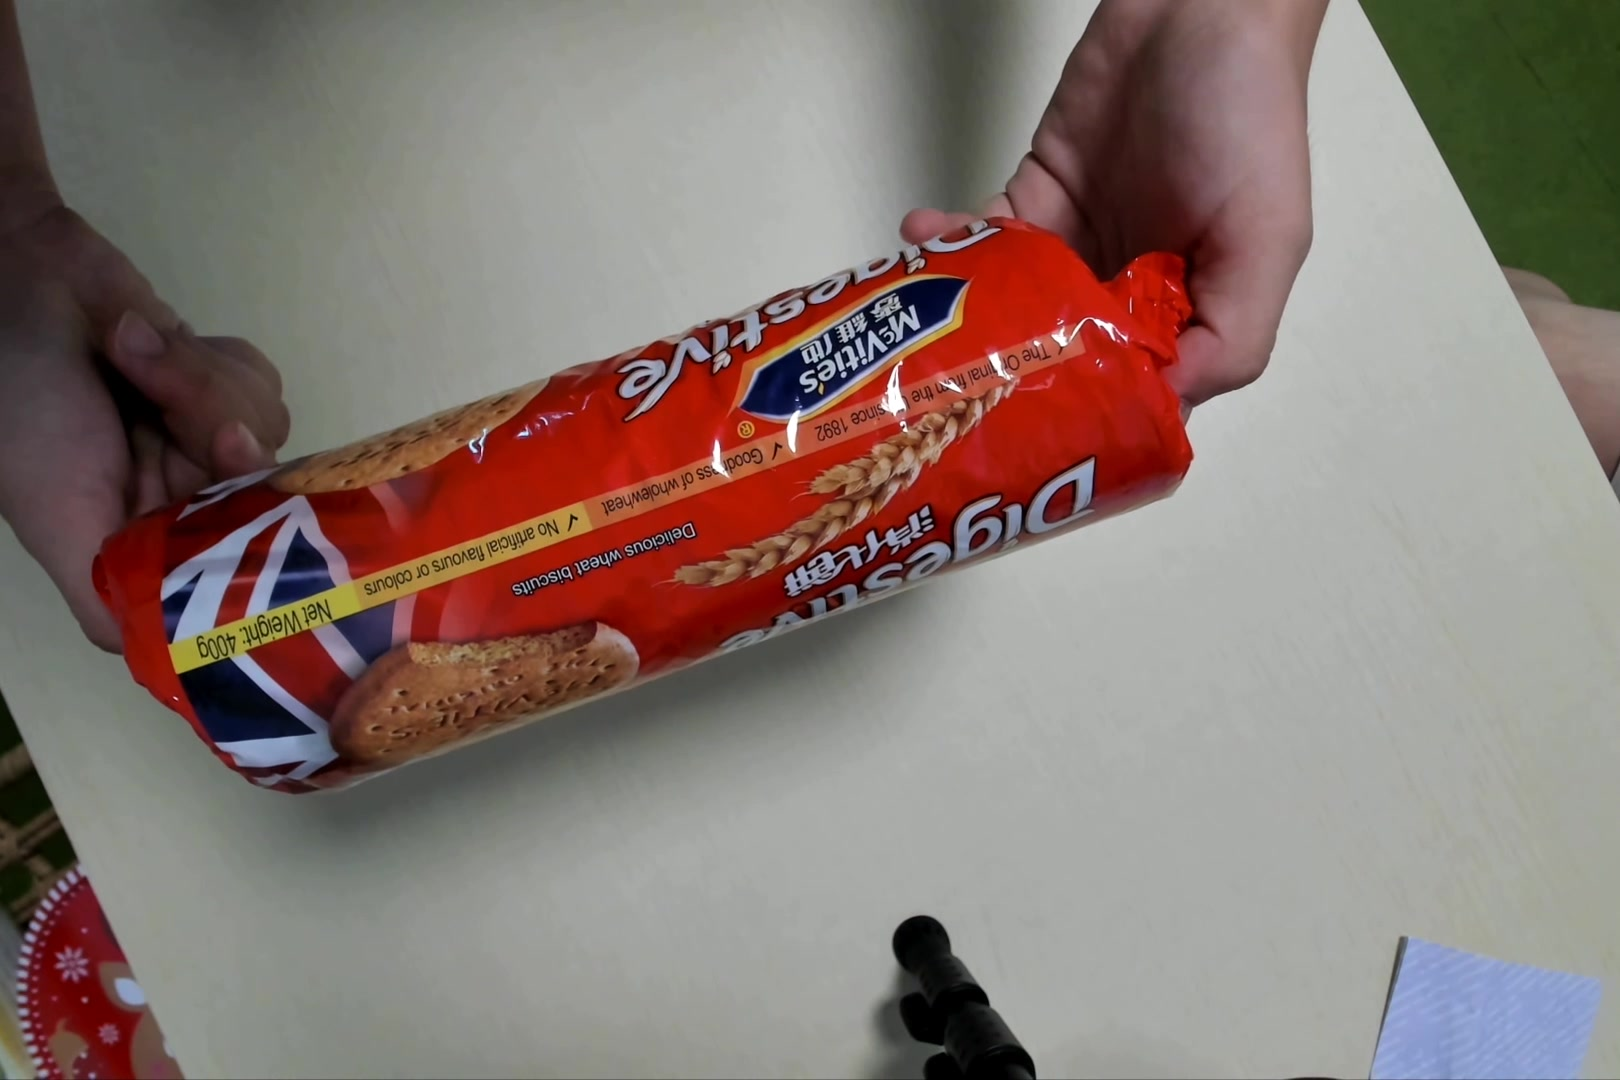BiscuitsCrackersCookies_400-499g_NonHalal_NonHealthy: (94, 231, 1201, 792)
